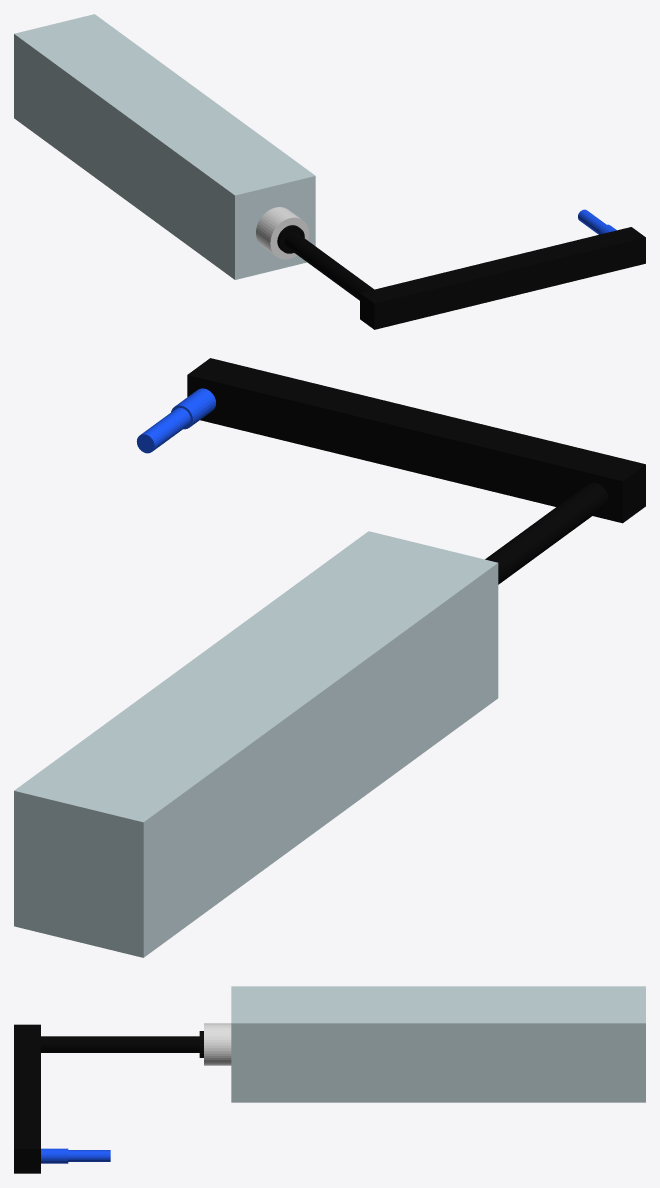
The model's file is azas_dispenser_single.obj.
3 views of the same model, one above another, from view 1: azimuth 30°, elevation 25°; view 2: azimuth 150°, elevation 25°; view 3: azimuth 270°, elevation 25° (orthographic). The views are drawn at different scales.
Parts seen in each view (by area): view 1: azas_dispenser_single; view 2: azas_dispenser_single; view 3: azas_dispenser_single.
Part boxes in pixels (bbox=[...]): azas_dispenser_single: bbox=[14, 14, 645, 329]; azas_dispenser_single: bbox=[14, 358, 645, 957]; azas_dispenser_single: bbox=[14, 986, 645, 1173].
Size of the model in its own units: 0.212 by 0.058 by 0.419.
